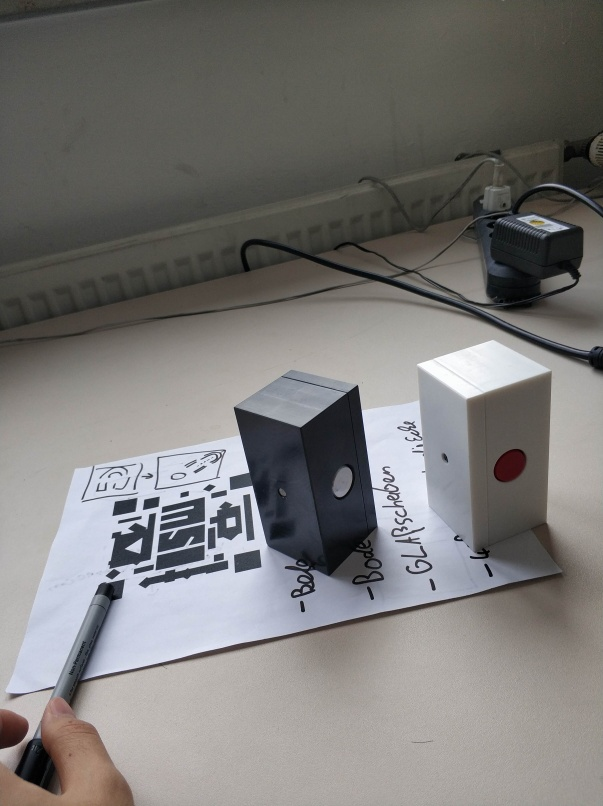black+black+silver: (232, 367, 382, 578)
white+white+red: (412, 338, 556, 551)
